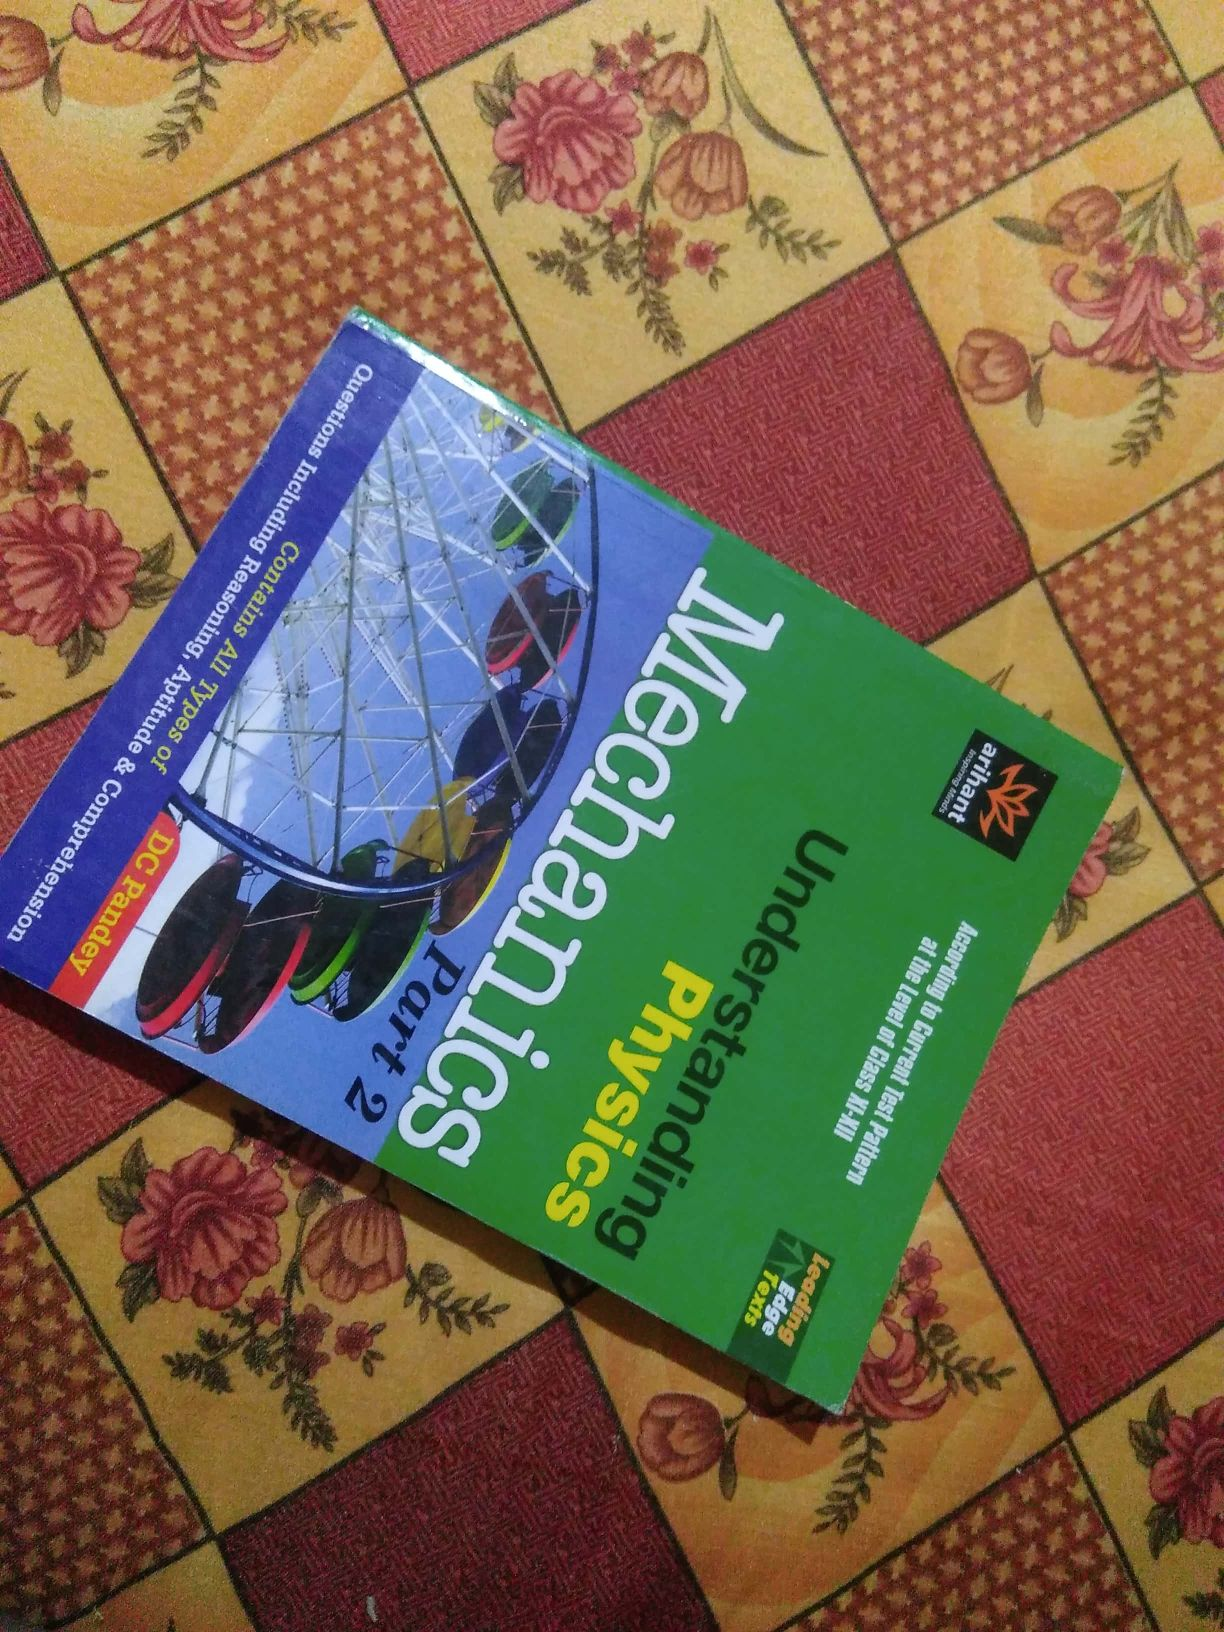mechanics: (27, 332, 1115, 1441)
